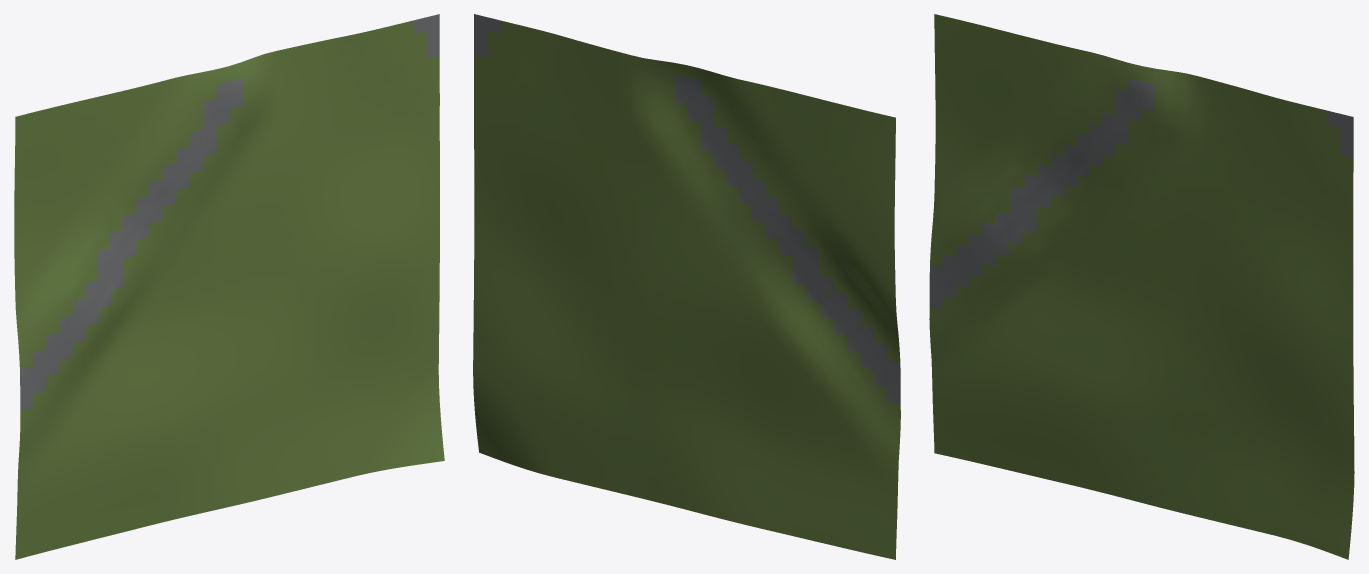
Rendered from island_terrain_15_08.obj.
The picture shows the model from 3 angles, left to right: view 1: azimuth 30°, elevation 25°; view 2: azimuth 150°, elevation 25°; view 3: azimuth 330°, elevation 25°; orthographic projection.
Parts seen in each view (by area): view 1: island_terrain_15_08; view 2: island_terrain_15_08; view 3: island_terrain_15_08.
Boxes of the visible parts, bbox=[...] form: island_terrain_15_08: bbox=[14, 14, 444, 559]; island_terrain_15_08: bbox=[473, 14, 900, 559]; island_terrain_15_08: bbox=[929, 14, 1354, 559].
Bounding box in the file's own units: 256 × 256 × 8.31.
